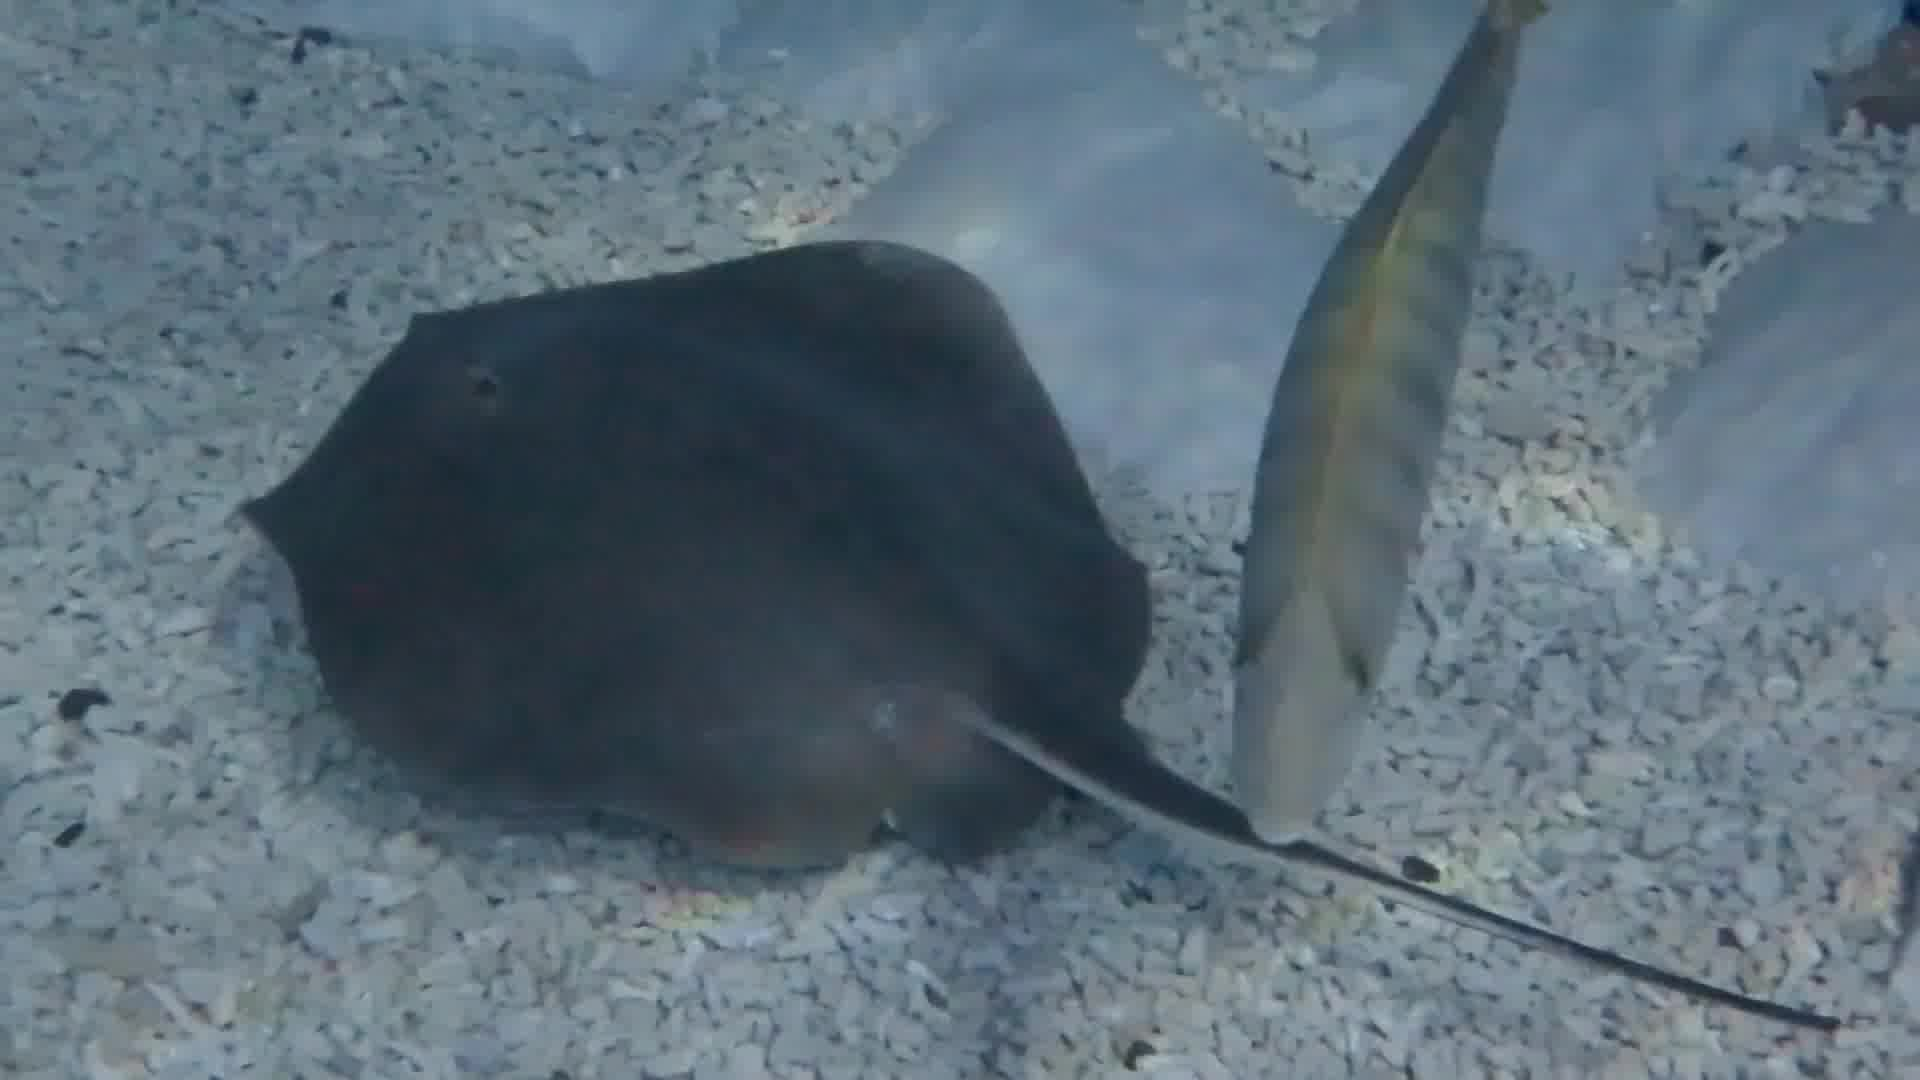Dasyatis bennetti: (183, 167, 1222, 996)
